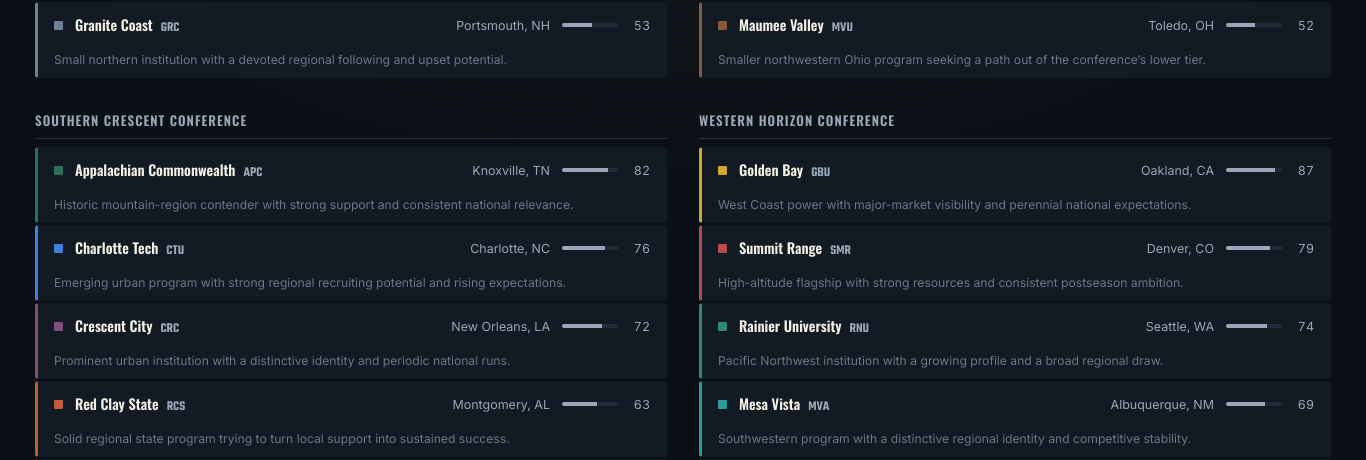
Scenario: Season Presentation › shows the Season Hub with 0-0 records and Round 1 after selecting a Program
(page scrolled)
Click the button that starts with "Charlotte Tech" at [117, 247], box [35,225,667,301]
(page scrolled)
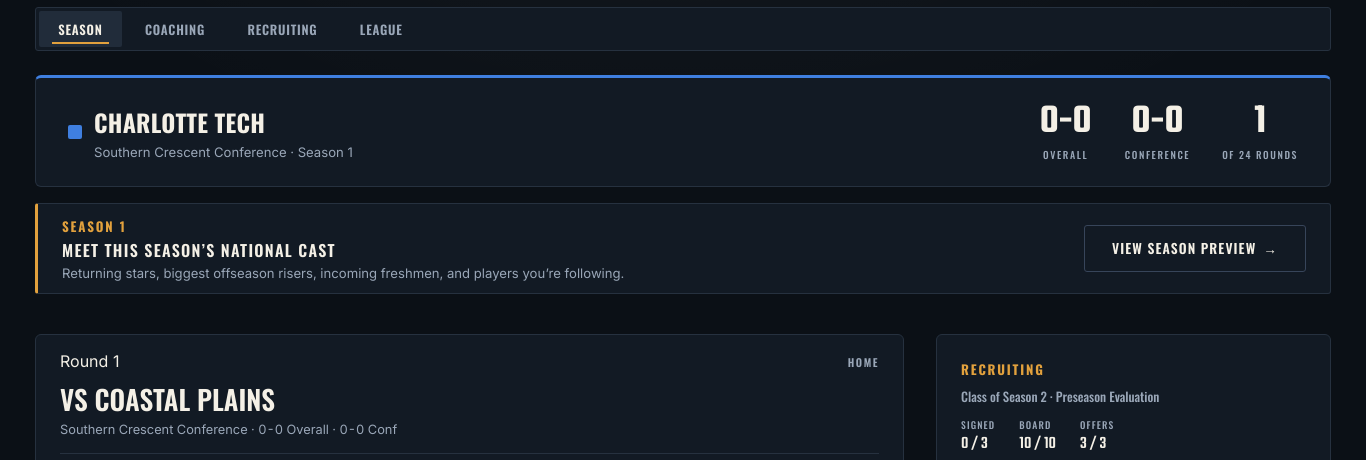
Expected: the heading "Charlotte Tech" is shown, [94,104,265,140]
Expected: the 1st text "0-0" is shown, [1040,102,1092,144]
Expected: the text "Southern Crescent Conference · Season 1" is shown, [94,144,353,160]
